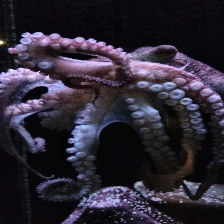octopus: (1, 28, 224, 221)
